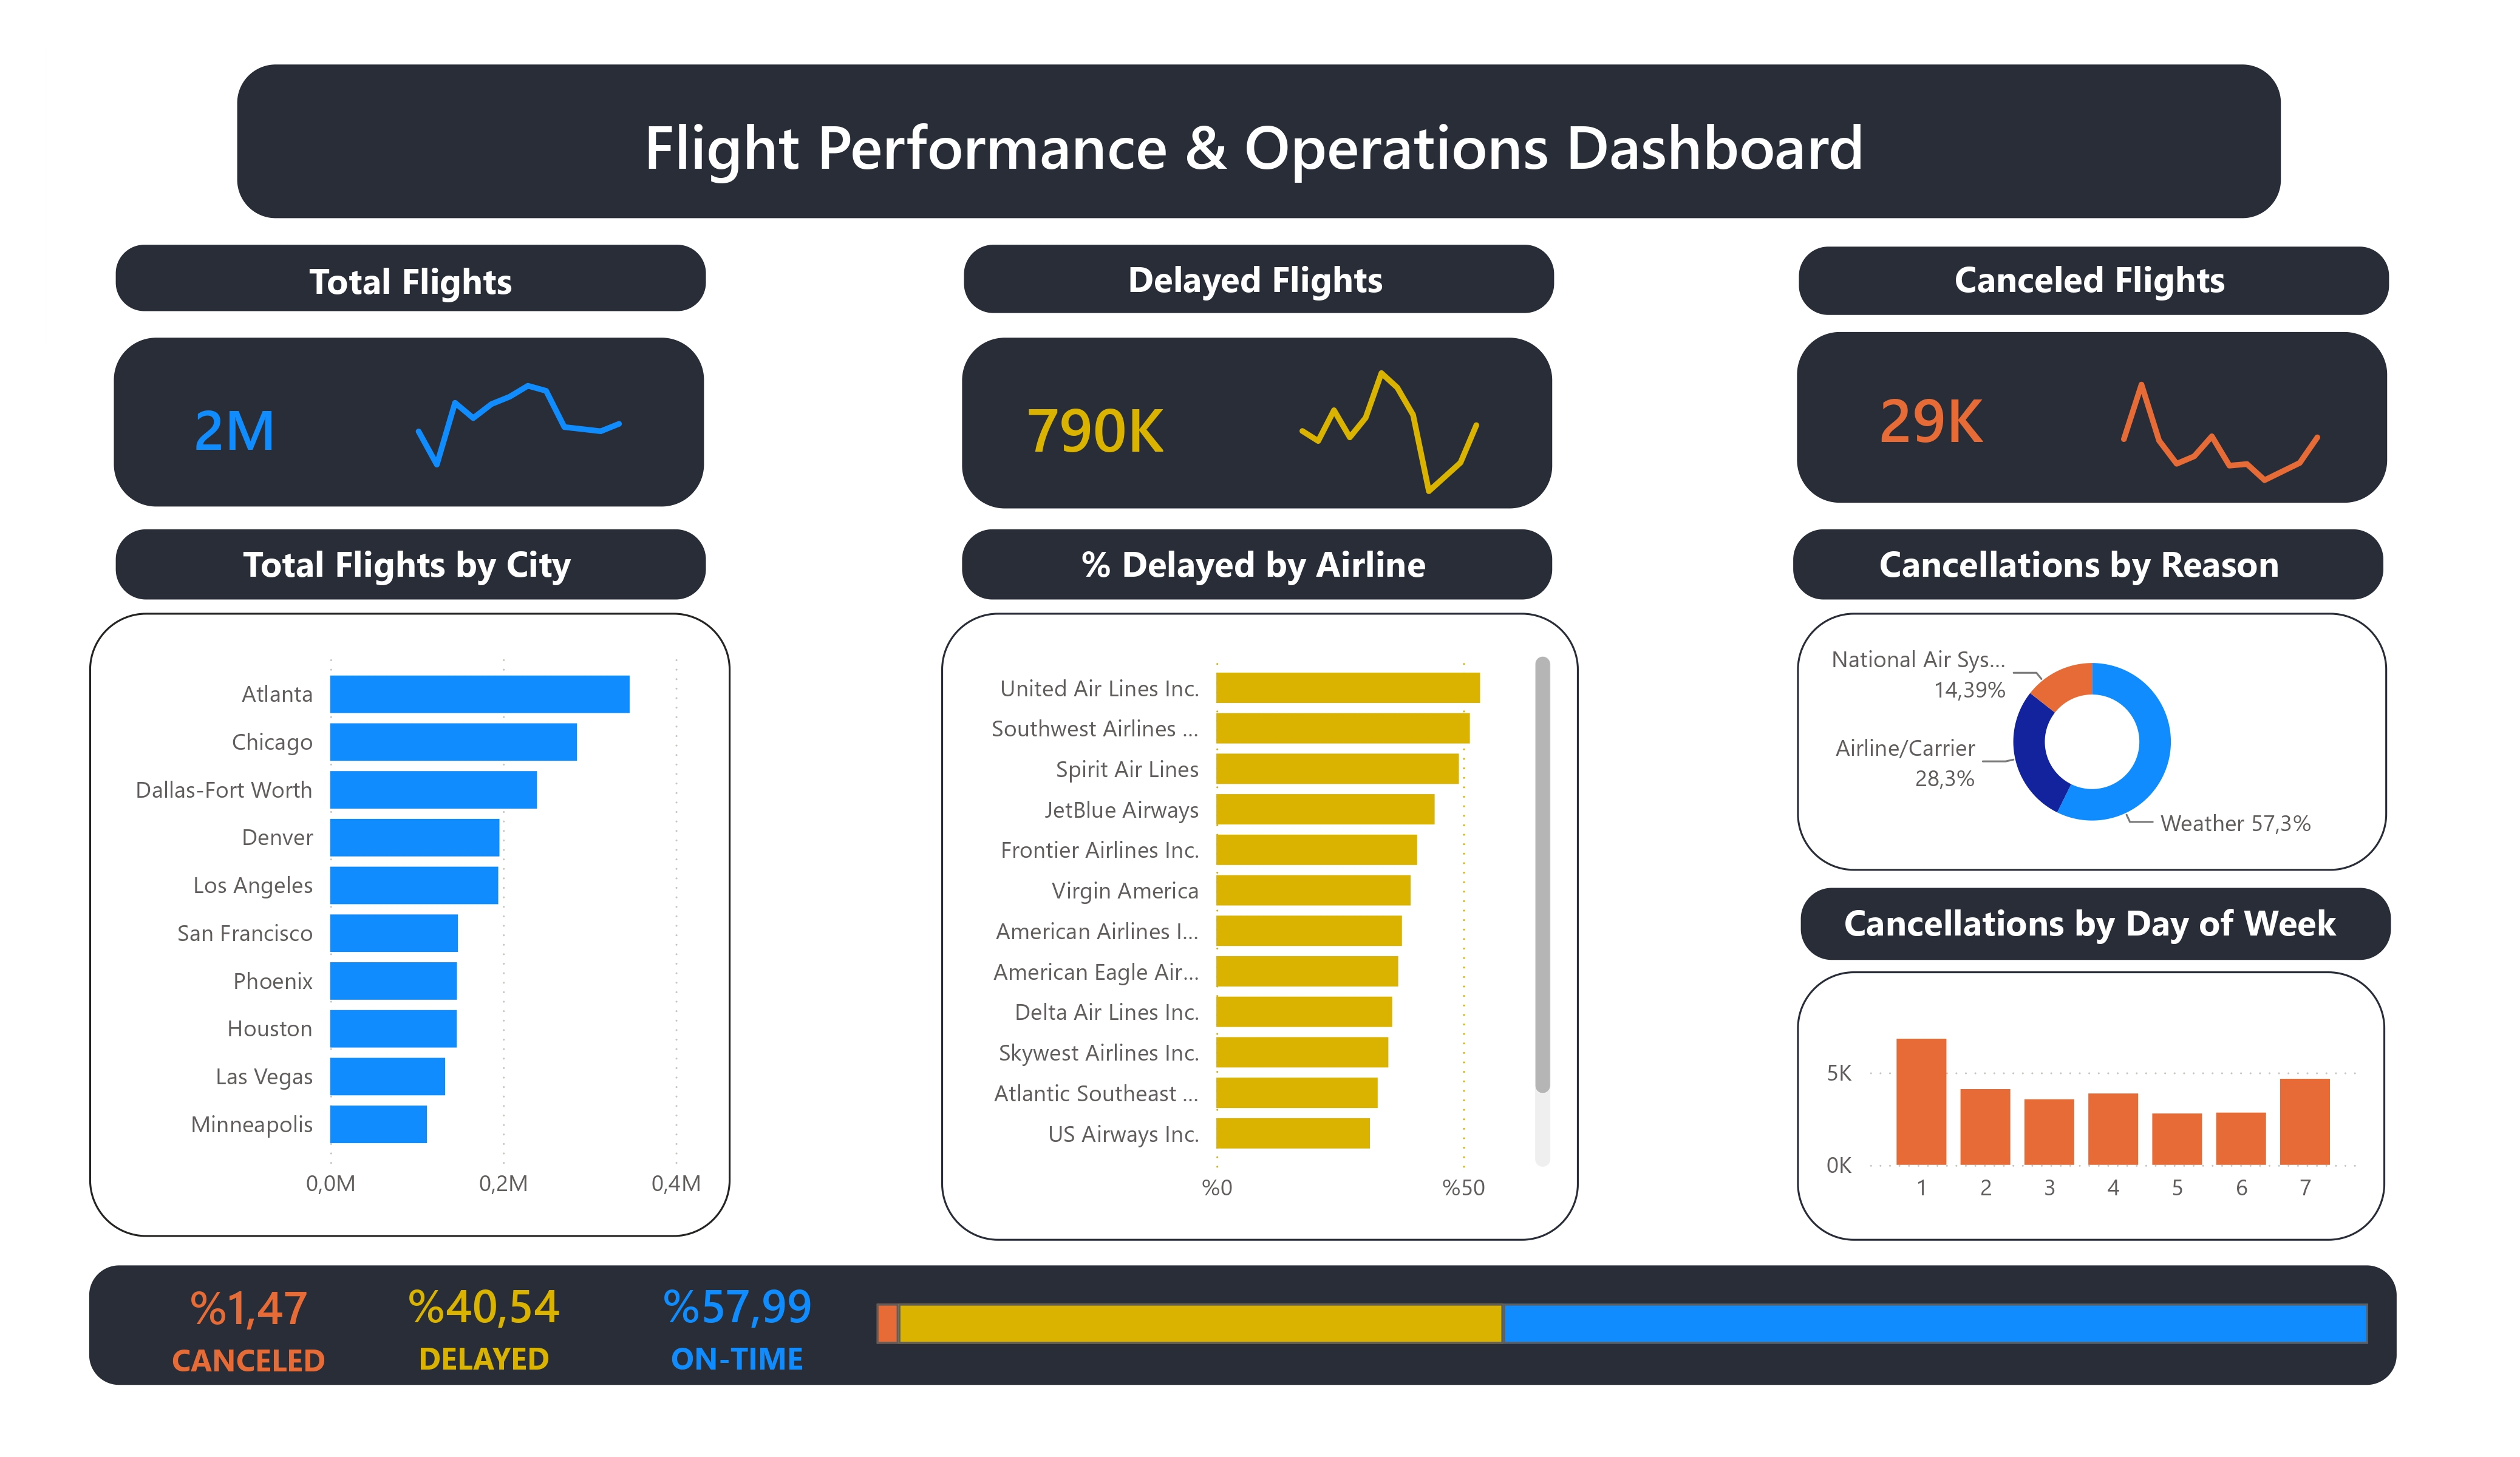

The dashboard page shown, as its layout file describes it:
{"tool":"powerbi","page":{"name":"1. sayfa","canvas":[1280,720],"ordinal":0},"visuals":[{"type":"shape","box":[37.1,105,310.9,35.4],"z":0,"group":"g13"},{"type":"shape","box":[484,105,311,36.3],"z":0,"group":"g6"},{"type":"shape","box":[924,105.5,311,36.3],"z":0,"group":"g7"},{"type":"shape","box":[36.1,154.5,311.3,89.1],"z":0,"group":"g4"},{"type":"shape","box":[37,255,311,37.1],"z":0,"group":"g8"},{"type":"shape","box":[483,255,311,37.1],"z":0,"group":"g9"},{"type":"shape","box":[921,255,311,37.1],"z":0,"group":"g10"},{"type":"shape","box":[925,444,311,37.9],"z":0,"group":"g11"},{"type":"shape","box":[23.1,643.5,1215.7,63.2],"z":0,"group":"g2"},{"type":"shape","box":[101.8,10.2,1076.2,80.4],"z":1000,"group":"g5"},{"type":"barChart","title":"% Delayed by Airline","fields":{"Category":["airlines.AIRLINE"],"Y":["flights.% Delayed"]},"box":[472,299,336,331],"z":1000},{"type":"shape","box":[483.1,154.2,311.3,90.3],"z":2000,"group":"g1"},{"type":"donutChart","title":"Cancellations by Reason","fields":{"Category":["cancellation_codes.CANCELLATION_DESCRIPTION"],"Y":["flights.Canceled Flights"]},"box":[923,299,311,136],"z":2000},{"type":"clusteredColumnChart","title":"Cancellations by Day of Week","fields":{"Category":["flights.DAY_OF_WEEK"],"Y":["flights.Canceled Flights"]},"box":[922.6,487.9,310.2,142.6],"z":3000},{"type":"textbox","box":[37,105.7,310.6,49.3],"z":4000,"group":"g13"},{"type":"clusteredBarChart","title":"Total Flights by City","fields":{"Category":["airports.CITY"],"Y":["flights.Total Flights"]},"box":[23,299,338,329],"z":5000},{"type":"shape","box":[922.6,150.6,311.3,90.3],"z":6000,"group":"g3"},{"type":"group","id":"g1","title":"Grup 1","box":[483.1,154.2,312,90.4],"z":6000},{"type":"group","id":"g2","title":"Grup 2","box":[23.1,643.5,1215.7,63.2],"z":7000,"group":"g12"},{"type":"group","id":"g3","title":"Grup 4","box":[922.6,150.6,317.2,90.4],"z":8000},{"type":"group","id":"g4","title":"Grup 2","box":[36.1,154.5,311.3,89.1],"z":9000},{"type":"hundredPercentStackedBarChart","fields":{"Series":["flights.Status"],"Y":["flights.Total Flights"]},"box":[433.4,622.4,795.5,97.4],"z":9000,"group":"g12"},{"type":"cardVisual","fields":{"Data":["flights.Total Flights"]},"box":[48.9,160.3,143.5,77.5],"z":10000},{"type":"cardVisual","fields":{"Data":["flights.Delayed Flights"]},"box":[487.8,161.2,151.6,76.4],"z":10000,"group":"g1"},{"type":"group","id":"g5","title":"Grup 6","box":[99.4,9,1079.2,82.3],"z":11000},{"type":"lineChart","fields":{"Category":["flights.MONTH"],"Y":["flights.Delayed Flights"]},"box":[639.2,156.5,155.1,88],"z":11000,"group":"g1"},{"type":"cardVisual","fields":{"Data":["flights.Canceled Flights"]},"box":[936.2,158.8,131.9,69.4],"z":13000,"group":"g3"},{"type":"cardVisual","fields":{"Data":["flights.% On-Time"]},"box":[283.9,628.4,161.1,91.6],"z":13000,"group":"g12"},{"type":"lineChart","fields":{"Category":["flights.MONTH"],"Y":["flights.Canceled Flights"]},"box":[1070.5,150.6,169,90.3],"z":14000,"group":"g3"},{"type":"lineChart","title":"Aylık Toplam Uçuş Trendi","fields":{"Category":["flights.MONTH"],"Y":["flights.Total Flights"]},"box":[172.1,154.2,173.6,91.4],"z":14000},{"type":"cardVisual","fields":{"Data":["flights.Dynamic Title"]},"box":[99.4,9,1076.2,81.5],"z":15000,"group":"g5"},{"type":"cardVisual","fields":{"Data":["flights.% Delayed"]},"box":[152.5,630.4,157.5,89.3],"z":15000,"group":"g12"},{"type":"textbox","box":[484,105,307,46],"z":16000,"group":"g6"},{"type":"textbox","box":[924.4,105,307,46],"z":16000,"group":"g7"},{"type":"textbox","box":[37,255,307,47],"z":16000,"group":"g8"},{"type":"textbox","box":[483,255,307,47],"z":16000,"group":"g9"},{"type":"textbox","box":[921,255,307,47],"z":16000,"group":"g10"},{"type":"textbox","box":[924,444,307,39],"z":16000,"group":"g11"},{"type":"cardVisual","fields":{"Data":["flights.% Canceled"]},"box":[37.1,633.4,140.4,84.3],"z":16000,"group":"g12"},{"type":"group","id":"g6","title":"Grup 3","box":[484,105,311,46],"z":17000},{"type":"group","id":"g7","title":"Grup 3","box":[924,105,311,46],"z":18000},{"type":"group","id":"g8","title":"Grup 3","box":[37,255,311,47],"z":19000},{"type":"group","id":"g9","title":"Grup 3","box":[483,255,311,47],"z":20000},{"type":"group","id":"g10","title":"Grup 3","box":[921,255,311,47],"z":21000},{"type":"group","id":"g11","title":"Grup 3","box":[924,444,312,39],"z":22000},{"type":"group","id":"g12","title":"Grup 5","box":[23.1,622.4,1215.7,97.4],"z":22001},{"type":"group","id":"g13","title":"Group 1","box":[37,105,311,50],"z":22002}]}

Visuals, with their boxes in screenshot pixels (x1, y1, x2, y2):
shape: (left=129, top=236, right=711, bottom=302)
shape: (left=965, top=236, right=1548, bottom=304)
shape: (left=1790, top=237, right=2372, bottom=305)
shape: (left=127, top=328, right=710, bottom=495)
shape: (left=128, top=517, right=711, bottom=586)
shape: (left=964, top=517, right=1546, bottom=586)
shape: (left=1784, top=517, right=2366, bottom=586)
shape: (left=1791, top=871, right=2374, bottom=942)
shape: (left=103, top=1244, right=2379, bottom=1362)
shape: (left=250, top=58, right=2265, bottom=209)
"% Delayed by Airline" barChart: (left=943, top=599, right=1572, bottom=1219)
shape: (left=964, top=328, right=1547, bottom=497)
"Cancellations by Reason" donutChart: (left=1788, top=599, right=2370, bottom=854)
"Cancellations by Day of Week" clusteredColumnChart: (left=1787, top=953, right=2368, bottom=1220)
textbox: (left=128, top=237, right=710, bottom=330)
"Total Flights by City" clusteredBarChart: (left=102, top=599, right=735, bottom=1215)
shape: (left=1787, top=321, right=2370, bottom=491)
"Grup 1" group: (left=964, top=328, right=1548, bottom=497)
"Grup 2" group: (left=103, top=1244, right=2379, bottom=1362)
"Grup 4" group: (left=1787, top=321, right=2381, bottom=491)
"Grup 2" group: (left=127, top=328, right=710, bottom=495)
hundredPercentStackedBarChart - flights.Status x flights.Total Flights: (left=871, top=1204, right=2360, bottom=1387)
cardVisual - flights.Total Flights: (left=151, top=339, right=420, bottom=484)
cardVisual - flights.Delayed Flights: (left=973, top=341, right=1256, bottom=484)
"Grup 6" group: (left=245, top=56, right=2266, bottom=210)
lineChart - flights.MONTH x flights.Delayed Flights: (left=1256, top=332, right=1547, bottom=497)
cardVisual - flights.Canceled Flights: (left=1813, top=337, right=2059, bottom=467)
cardVisual - flights.% On-Time: (left=591, top=1216, right=893, bottom=1387)
lineChart - flights.MONTH x flights.Canceled Flights: (left=2064, top=321, right=2380, bottom=491)
"Aylık Toplam Uçuş Trendi" lineChart: (left=381, top=328, right=706, bottom=499)
cardVisual - flights.Dynamic Title: (left=245, top=56, right=2261, bottom=209)
cardVisual - flights.% Delayed: (left=345, top=1220, right=639, bottom=1387)
textbox: (left=965, top=236, right=1541, bottom=322)
textbox: (left=1790, top=236, right=2365, bottom=322)
textbox: (left=128, top=517, right=703, bottom=605)
textbox: (left=964, top=517, right=1539, bottom=605)
textbox: (left=1784, top=517, right=2358, bottom=605)
textbox: (left=1790, top=871, right=2365, bottom=943)
cardVisual - flights.% Canceled: (left=129, top=1225, right=392, bottom=1383)
"Grup 3" group: (left=965, top=236, right=1548, bottom=322)
"Grup 3" group: (left=1790, top=236, right=2372, bottom=322)
"Grup 3" group: (left=128, top=517, right=711, bottom=605)
"Grup 3" group: (left=964, top=517, right=1546, bottom=605)
"Grup 3" group: (left=1784, top=517, right=2366, bottom=605)
"Grup 3" group: (left=1790, top=871, right=2374, bottom=943)
"Grup 5" group: (left=103, top=1204, right=2379, bottom=1387)
"Group 1" group: (left=128, top=236, right=711, bottom=330)
